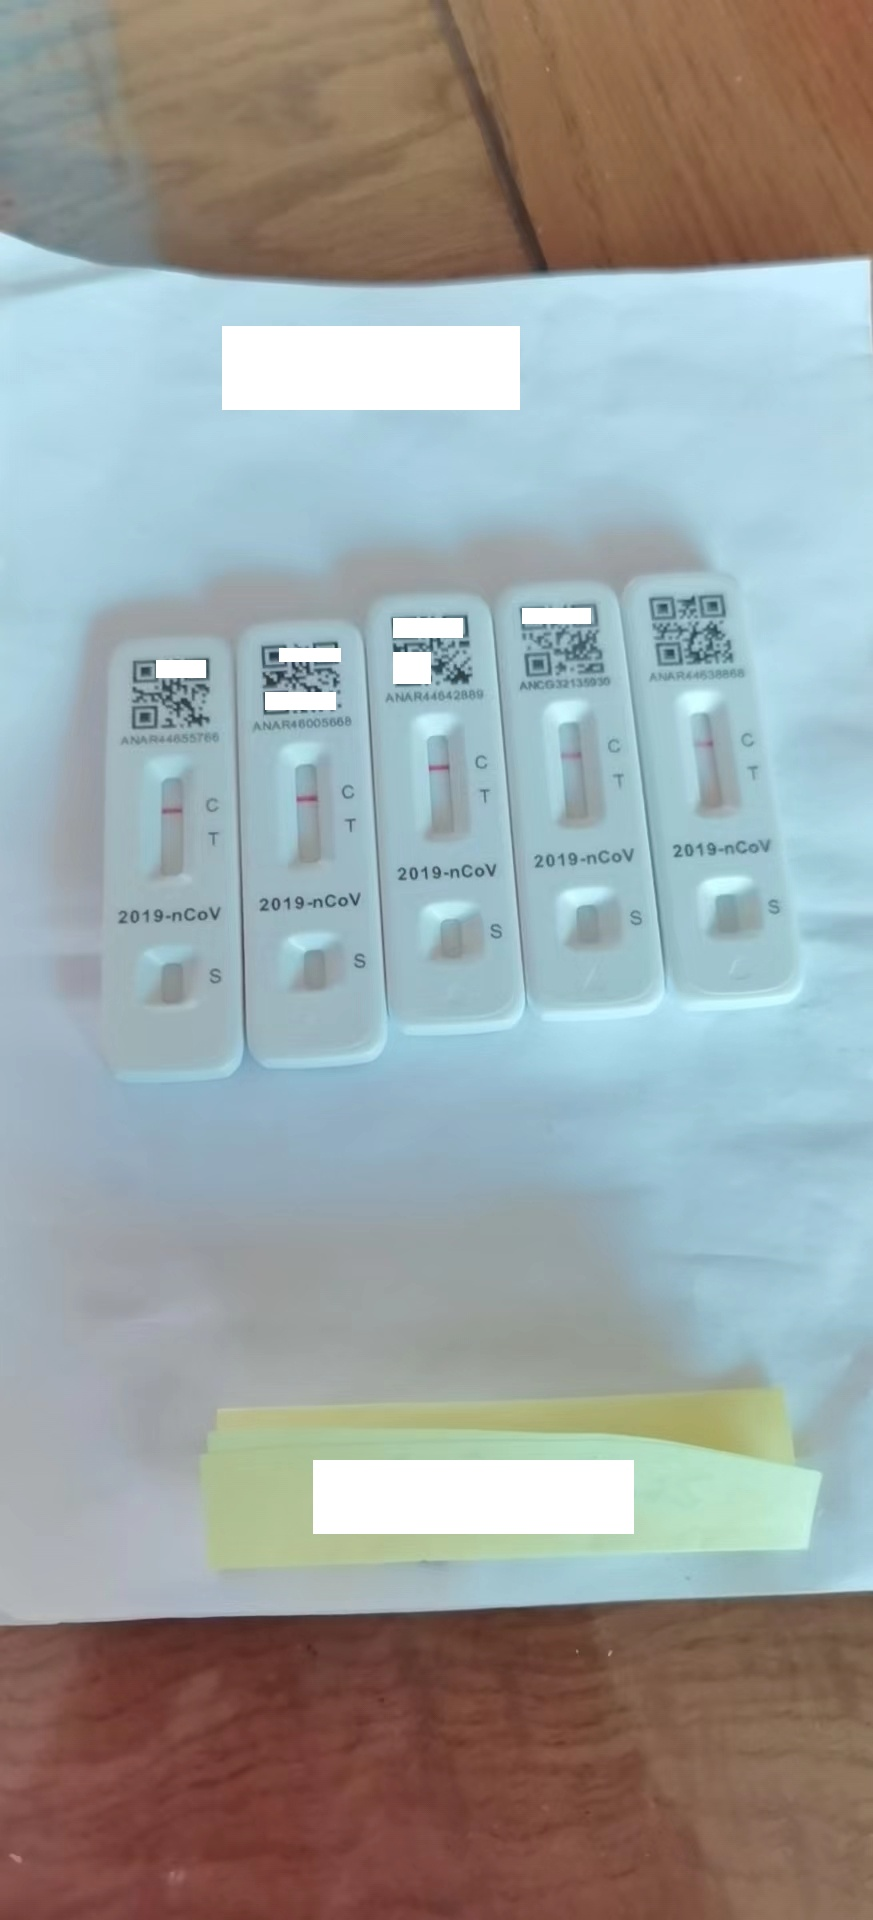negative: (535, 696, 607, 831), (676, 691, 740, 823), (409, 711, 470, 845), (275, 742, 333, 873), (142, 756, 193, 885)
